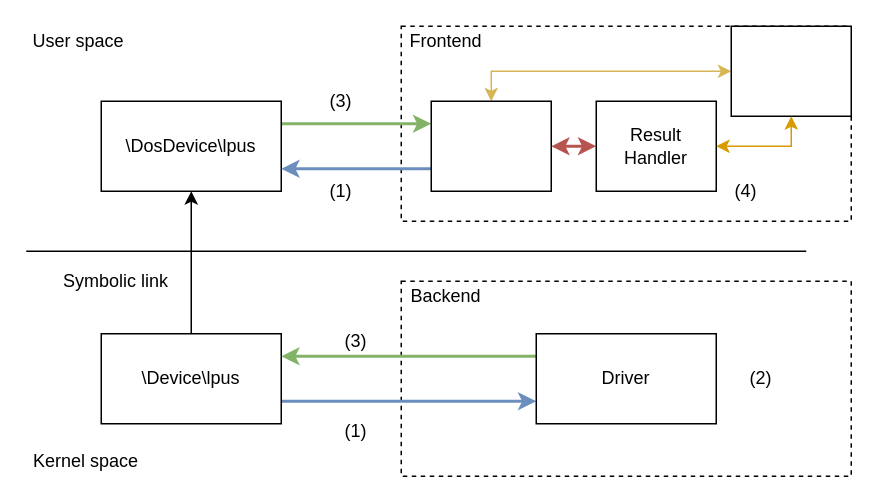
Some shapes in this 878 by 503 pixel diagram are drawn without their labels. Each missing label, with the centre of its shape:
Controller: point 490,145
Debug symbols: point 790,70
